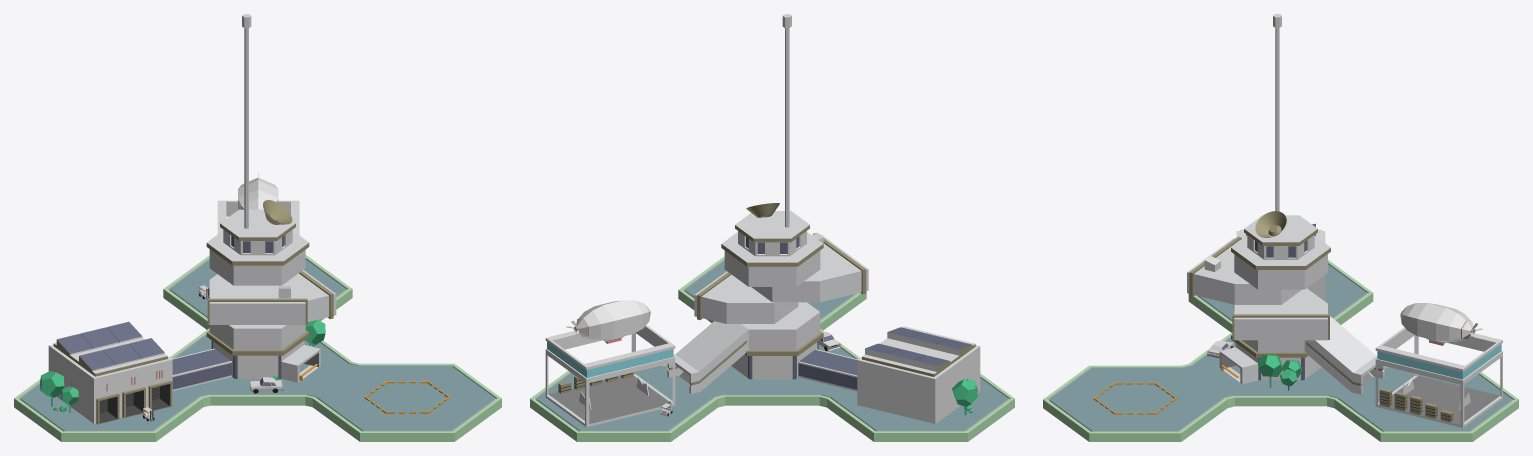
The model's file is npc_Role_Merchant_LV2.fbx.
3 renders of one model, left to right at view 1: azimuth 30°, elevation 25°; view 2: azimuth 150°, elevation 25°; view 3: azimuth 270°, elevation 25°, orthographic. The views are drawn at different scales.
Parts seen in each view (by area): view 1: 柱体.014; view 2: 柱体.014; view 3: 柱体.014.
Boxes of the visible parts, x1,y1,x2,y2 form: 柱体.014: (14, 14, 501, 441); 柱体.014: (530, 14, 1014, 441); 柱体.014: (1043, 14, 1518, 441).
Bounding box in the file's own units: 424 × 399 × 490.
